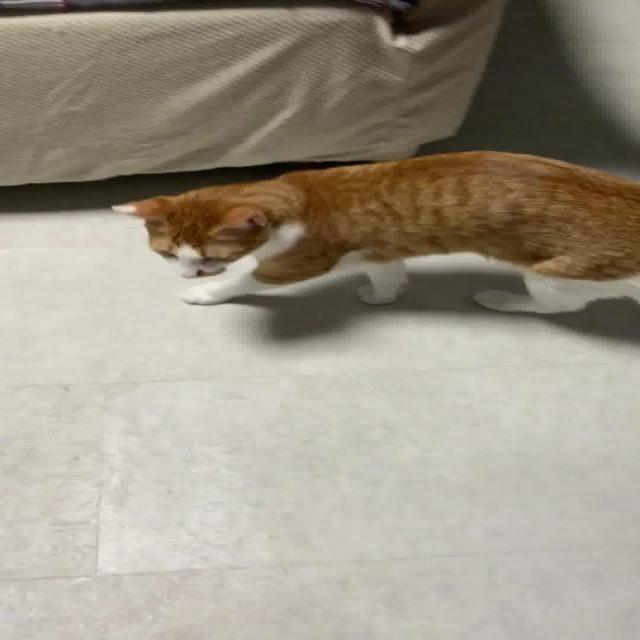cat: (95, 138, 640, 338)
